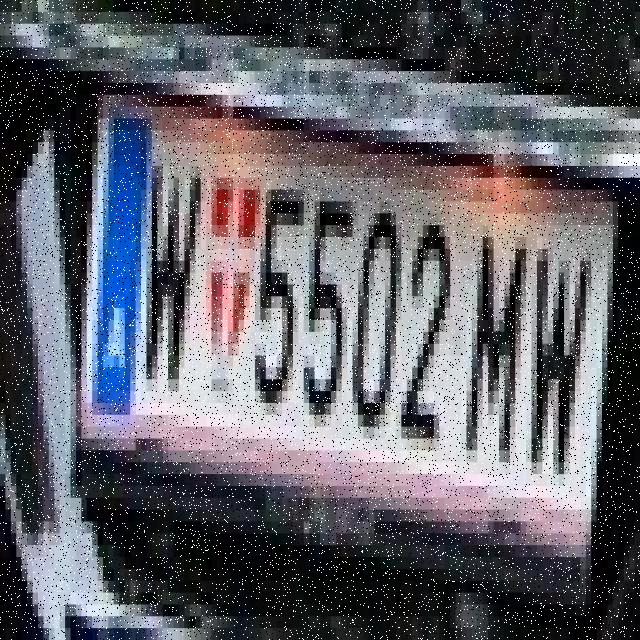licenseplate: (77, 80, 598, 558)
